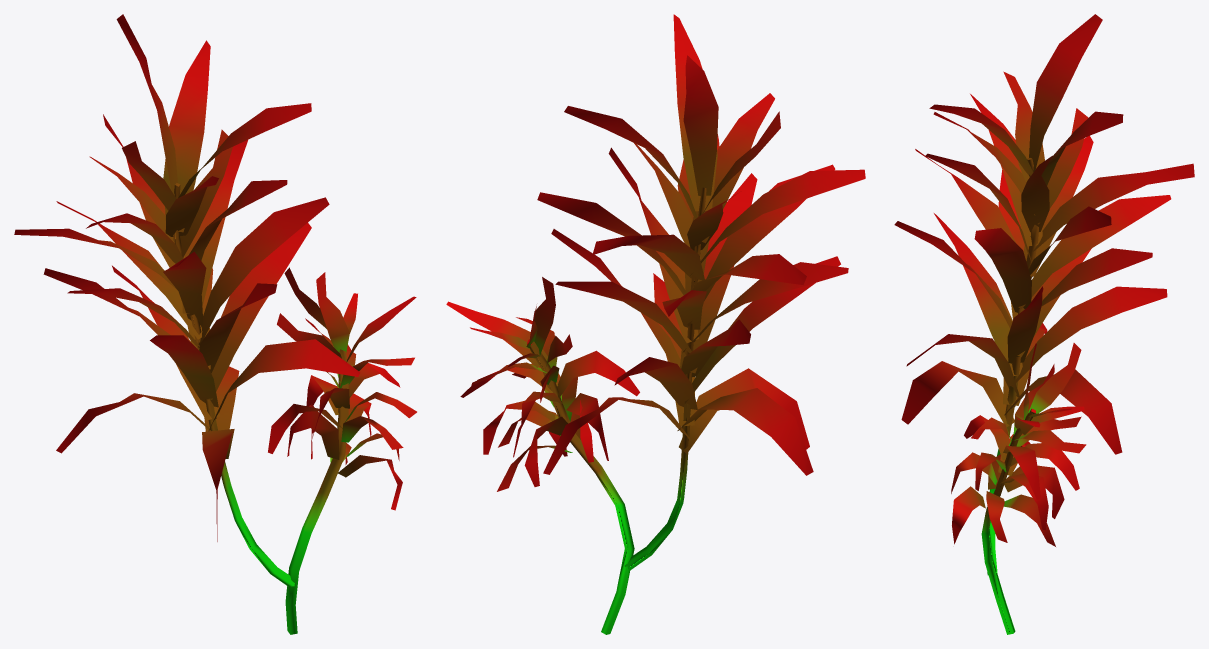
Rendered from Dragon Tree_LOD1_Var2_siumT.fbx.
The picture shows the model from 3 angles, left to right: view 1: azimuth 30°, elevation 25°; view 2: azimuth 150°, elevation 25°; view 3: azimuth 270°, elevation 25°; orthographic projection. The views are drawn at different scales.
Parts seen in each view (by area): view 1: _2725_Var2_LOD1; view 2: _2725_Var2_LOD1; view 3: _2725_Var2_LOD1.
Boxes of the visible parts, <box> form: _2725_Var2_LOD1: <box>14,14,416,634</box>; _2725_Var2_LOD1: <box>446,14,865,634</box>; _2725_Var2_LOD1: <box>894,14,1194,634</box>.
Bounding box in the file's own units: 69.01 × 109 × 52.66.
